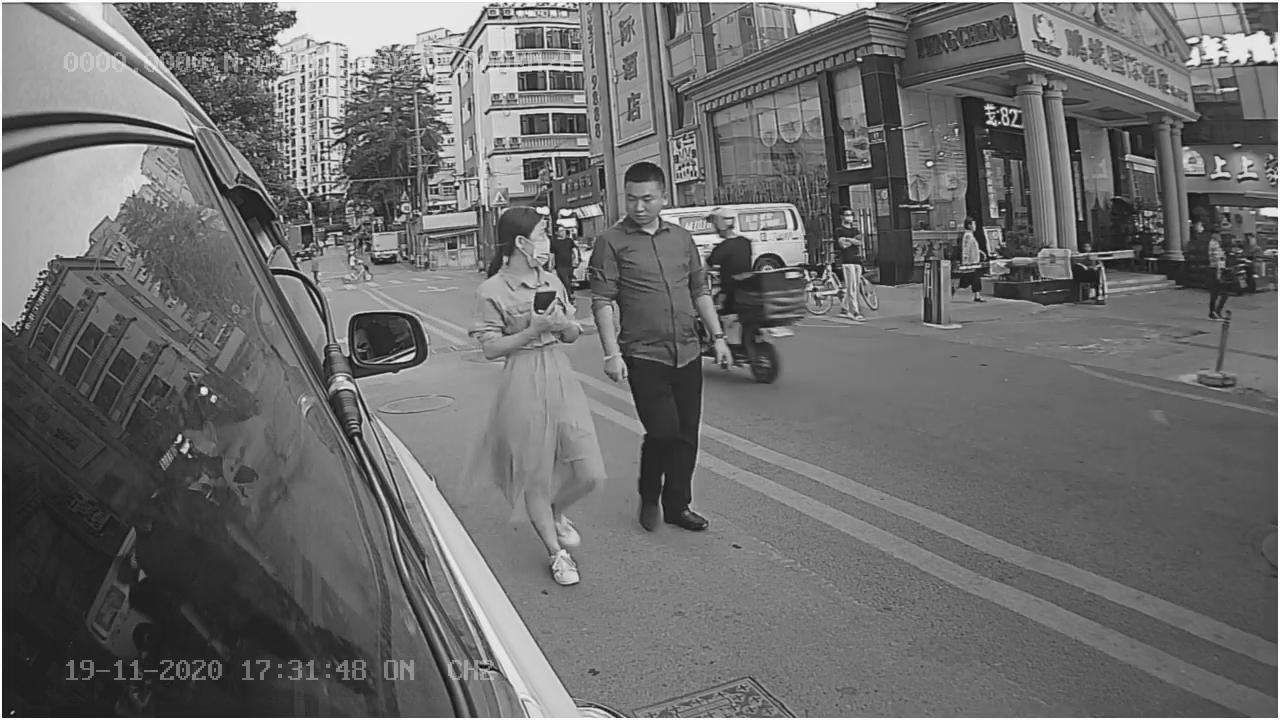person: (593, 165, 747, 464), (463, 210, 592, 534)
